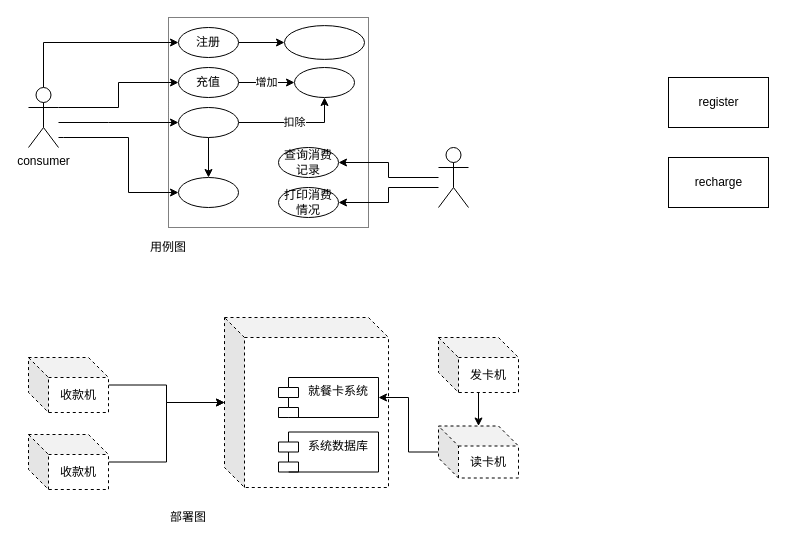
This 786x545 diagram has some shape labels left out. Each missing label, with the box of its shape:
admin: (438, 146, 468, 208)
中心服务器: (224, 316, 388, 488)
余额变更: (294, 66, 354, 98)
保存身份信息: (284, 25, 364, 59)
查询余额: (178, 176, 238, 208)
消费: (178, 106, 238, 138)
